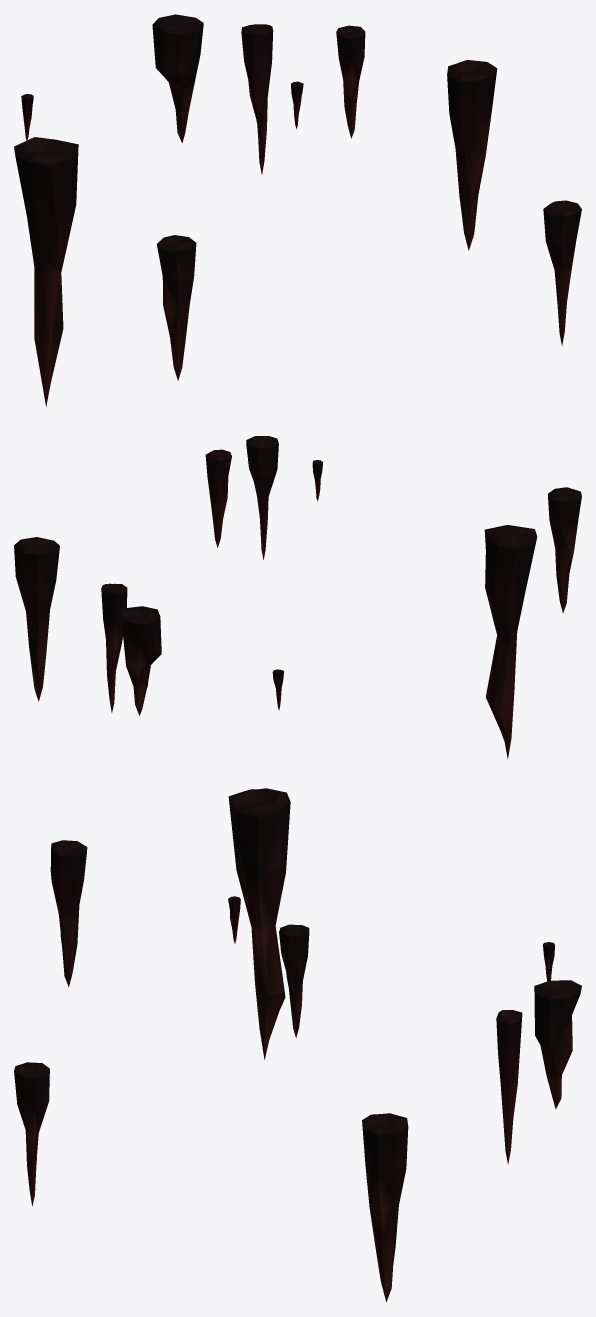
Rendered from level2Stalactite_grp.fbx.
The picture shows the model from 3 angles, top to bottom: view 1: azimuth 30°, elevation 25°; view 2: azimuth 150°, elevation 25°; view 3: azimuth 270°, elevation 25°; orthographic projection. The views are drawn at different scales.
Parts seen in each view (by area): view 1: stalactite_04, stalactite_03, stalactite_08, stalactite_06, stalactite_09, stalactite_05, stalactite_02; view 2: stalactite_04, stalactite_03, stalactite_08, stalactite_06, stalactite_09, stalactite_05, stalactite_02; view 3: stalactite_04, stalactite_03, stalactite_08, stalactite_06, stalactite_09, stalactite_05, stalactite_02.
Part boxes in pixels (box(x1,y1,x2,y2)): stalactite_04: box(14, 137, 78, 406); stalactite_03: box(447, 60, 497, 250); stalactite_08: box(152, 14, 203, 142); stalactite_06: box(157, 235, 196, 380); stalactite_09: box(543, 200, 581, 345); stalactite_05: box(241, 24, 273, 174); stalactite_02: box(336, 25, 365, 138); stalactite_04: box(484, 525, 537, 759); stalactite_03: box(14, 537, 59, 701); stalactite_08: box(121, 606, 161, 715); stalactite_06: box(548, 487, 581, 613); stalactite_09: box(246, 436, 278, 559); stalactite_05: box(101, 583, 127, 713); stalactite_02: box(205, 449, 231, 547); stalactite_04: box(228, 788, 290, 1059); stalactite_03: box(362, 1113, 408, 1301); stalactite_08: box(534, 980, 581, 1108); stalactite_06: box(50, 840, 87, 987); stalactite_09: box(14, 1062, 49, 1206); stalactite_05: box(496, 1010, 522, 1164); stalactite_02: box(279, 924, 309, 1037).
Size of the model in its own units: 587 by 308 by 537.
